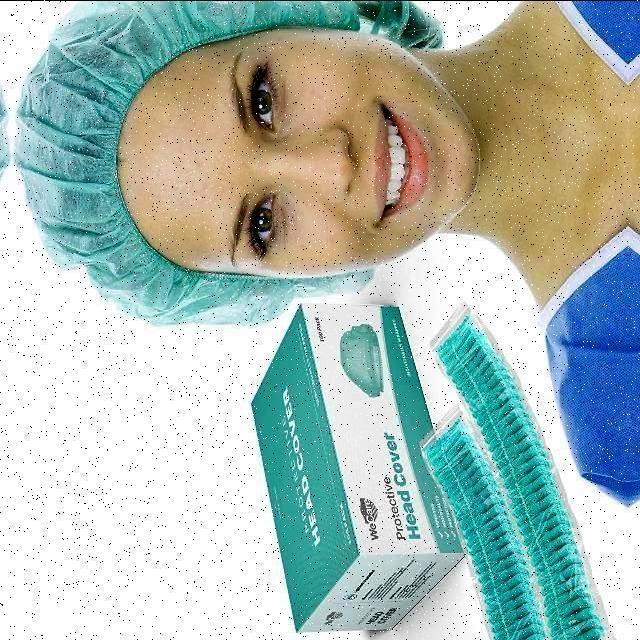gloves: (18, 6, 176, 344)
no_hairnet: (323, 87, 439, 240)
